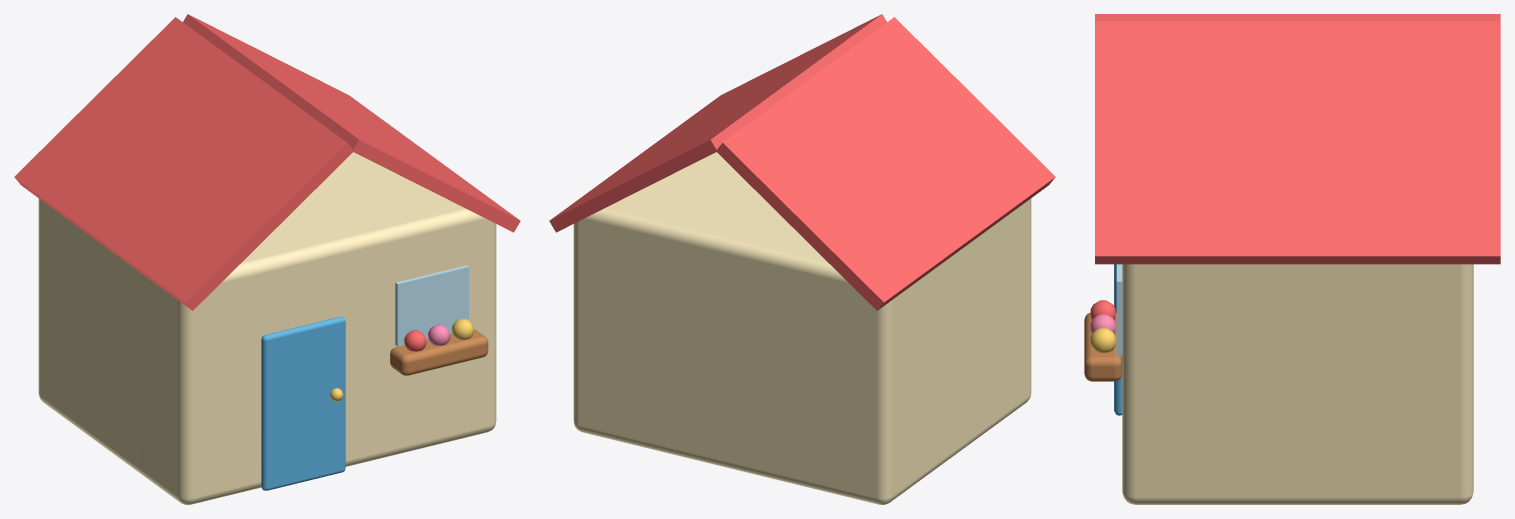
The model's file is kplayset-house.glb.
The picture shows the model from 3 angles, left to right: view 1: azimuth 30°, elevation 25°; view 2: azimuth 150°, elevation 25°; view 3: azimuth 270°, elevation 25°; orthographic projection. The views are drawn at different scales.
Bounding box in the file's own units: 1.69 × 1.63 × 1.54.
